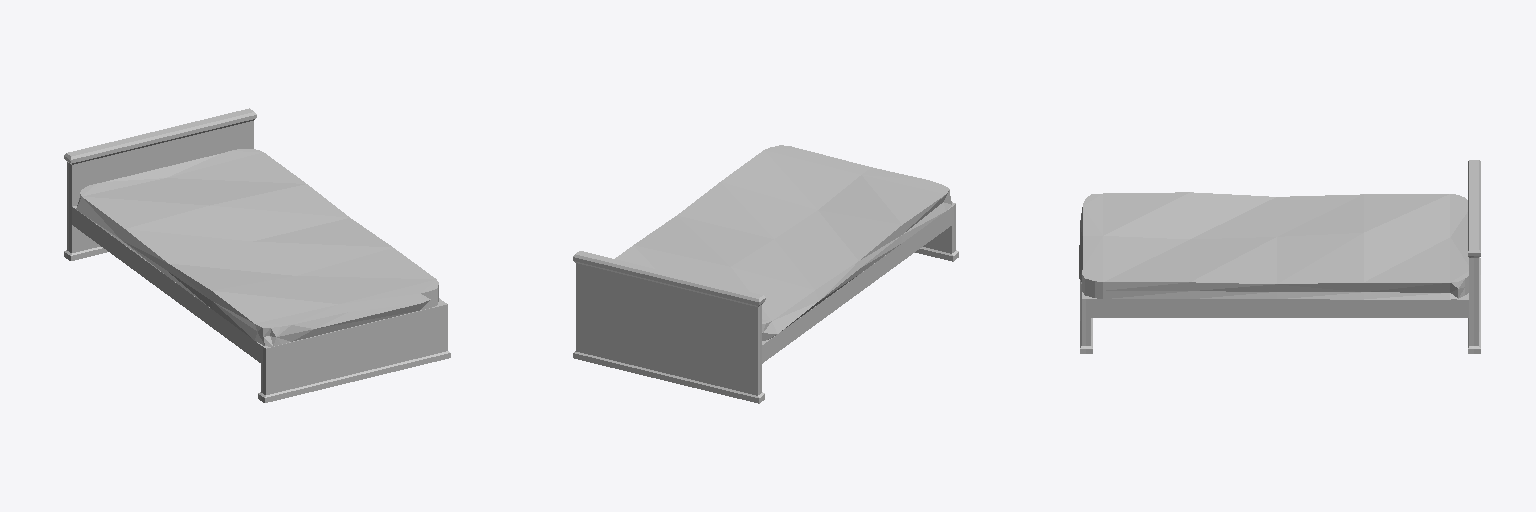
File: Bed_Sheet.obj
The picture shows the model from 3 angles: view 1: azimuth 30°, elevation 25°; view 2: azimuth 150°, elevation 25°; view 3: azimuth 270°, elevation 25°; orthographic projection.
Parts seen in each view (by area): view 1: Bed_Sheet_LOD0_Bed02_LOD0.002; view 2: Bed_Sheet_LOD0_Bed02_LOD0.002; view 3: Bed_Sheet_LOD0_Bed02_LOD0.002.
Part boxes in pixels (left/top/right/bottom): Bed_Sheet_LOD0_Bed02_LOD0.002: left=64, top=108, right=450, bottom=402; Bed_Sheet_LOD0_Bed02_LOD0.002: left=573, top=145, right=958, bottom=403; Bed_Sheet_LOD0_Bed02_LOD0.002: left=1079, top=160, right=1480, bottom=353.
Size of the model in its own units: 1.17 by 0.6109 by 2.14.